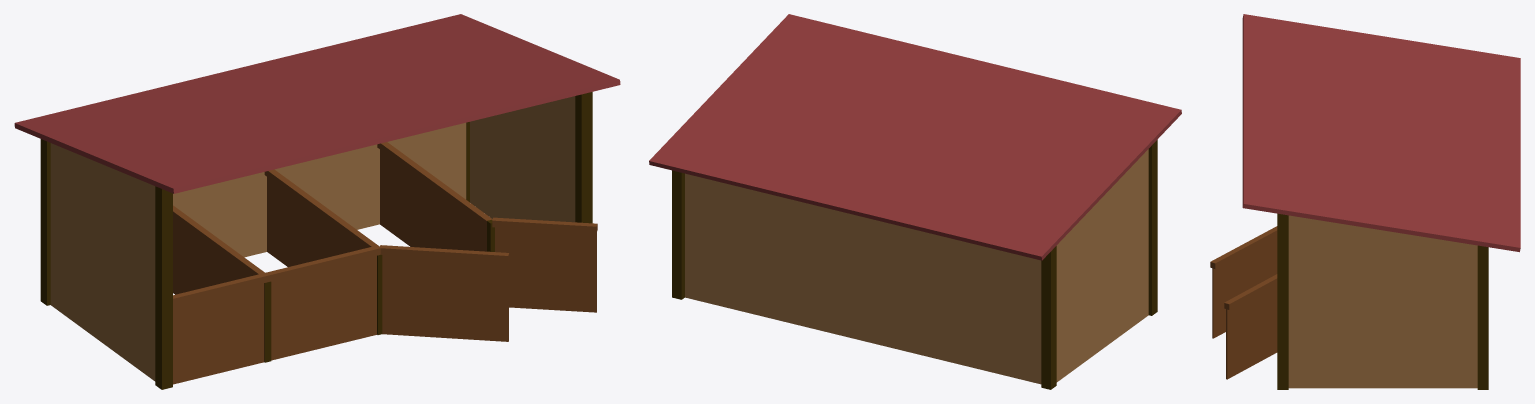
Rendered from Stajnia.fbx.
3 views of the same model, side by side, from view 1: azimuth 30°, elevation 25°; view 2: azimuth 150°, elevation 25°; view 3: azimuth 270°, elevation 25° (orthographic). The views are drawn at different scales.
Parts seen in each view (by area): view 1: Cube.003; view 2: Cube.003; view 3: Cube.003.
Part boxes in pixels (x1=…): Cube.003: x1=14, y1=14, x2=620, y2=389; Cube.003: x1=649, y1=14, x2=1181, y2=389; Cube.003: x1=1210, y1=14, x2=1520, y2=389.
Size of the model in its own units: 1068 by 497 by 738.
